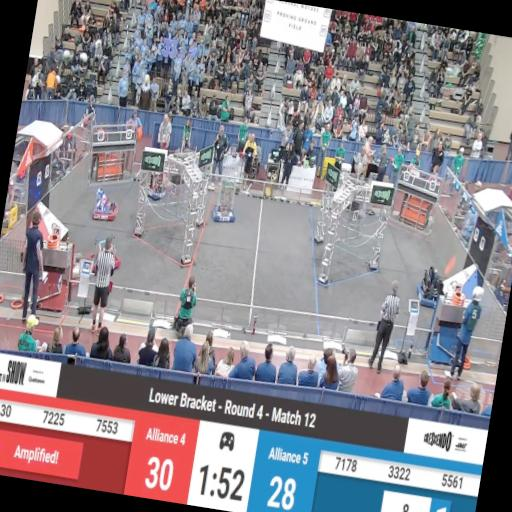robot: (84, 232, 124, 278), (412, 264, 446, 309), (90, 188, 120, 222), (212, 196, 238, 225), (144, 176, 166, 204), (376, 211, 392, 234)
